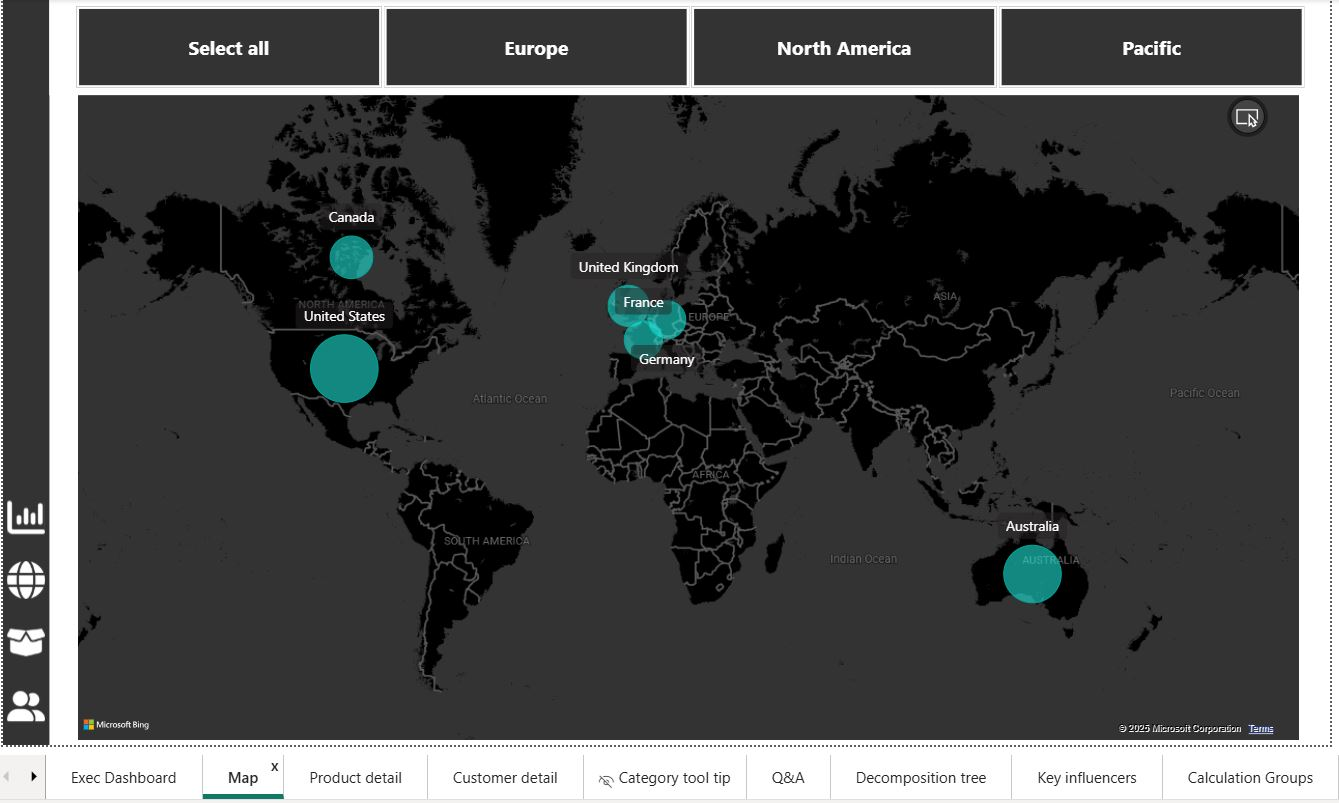

This screenshot's page, from the dashboard's own definition file:
{"tool":"powerbi","page":{"name":"Map","canvas":[1280,720],"ordinal":1},"visuals":[{"type":"shape","box":[0,0,45,720],"z":0},{"type":"actionButton","box":[0,475.9,44.5,48.4],"z":0,"group":"g1"},{"type":"map","fields":{"Category":["Territory Lookup.Country"],"Size":["Measure Table.Total Orders"]},"box":[67.6,84.5,1188.3,635.8],"z":1000},{"type":"actionButton","box":[0,536.5,44.5,48.4],"z":1000,"group":"g1"},{"type":"slicer","fields":{"Values":["Territory Lookup.Continent"]},"box":[44.6,0,1235.4,92.9],"z":2000},{"type":"actionButton","box":[0,597.1,44.5,48.4],"z":2000,"group":"g1"},{"type":"group","id":"g1","title":"Navigation buttons","box":[0,475.9,44.5,230.2],"z":3000},{"type":"actionButton","box":[0,657.8,44.5,48.4],"z":3000,"group":"g1"}]}

Visuals, with their boxes in screenshot pixels (x1, y1, x2, y2):
shape: 0,0,46,739
actionButton: 0,487,46,537
map - Territory Lookup.Country x Measure Table.Total Orders: 70,84,1296,740
actionButton: 0,550,46,600
slicer - Territory Lookup.Continent: 46,0,1320,92
actionButton: 0,612,46,662
"Navigation buttons" group: 0,487,46,725
actionButton: 0,675,46,725
